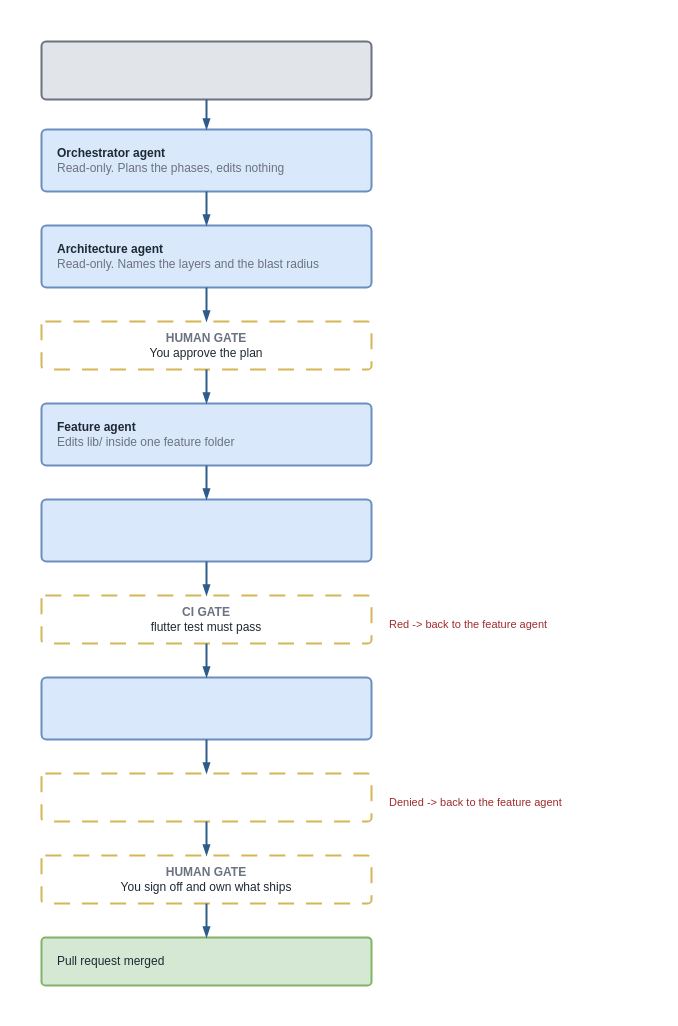
The diagram is 678 pixels wide and 1026 high, and some of its shapes have lost their labels. The shapes that lost their labels are listed below. From the top down, each one's centre as x and y in pixels, then its label:
At pixel 206 70: "Your request Started from a reusable prompt file".
At pixel 206 530: "Tester agent Edits test/ only. Cannot approve its own change".
At pixel 206 708: "Security agent Read-only. Reports exploit paths, fixes nothing".
At pixel 206 797: "HOOK + CI GATE Layering, credentials, CodeQL".
